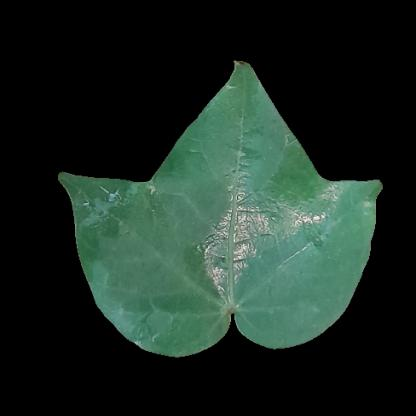healthy: (201, 120, 284, 210), (80, 211, 210, 268), (259, 243, 351, 305)
